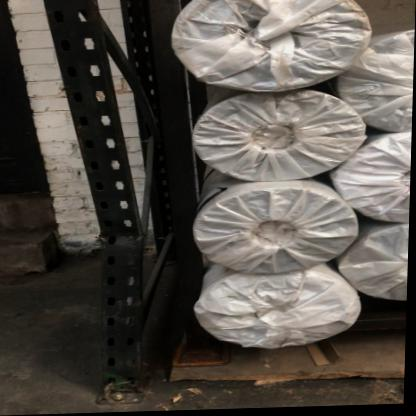vertical_damage: (66, 133, 153, 285)
